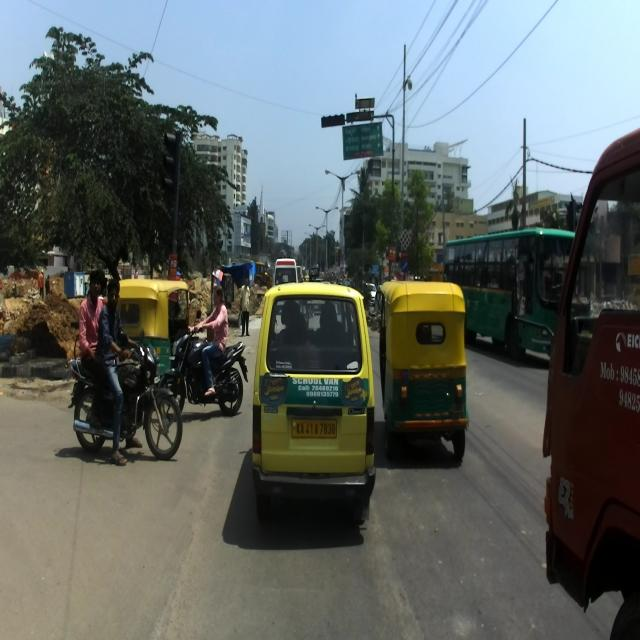Car_Maruti-Suzuki: (250, 280, 376, 528)
autorickshaw: (376, 277, 469, 464), (114, 278, 193, 389)
bus: (444, 227, 576, 364)
motorcycle_Hero: (68, 327, 183, 468)
motorcycle_Honda: (156, 310, 247, 419)
truck: (535, 120, 639, 639)
